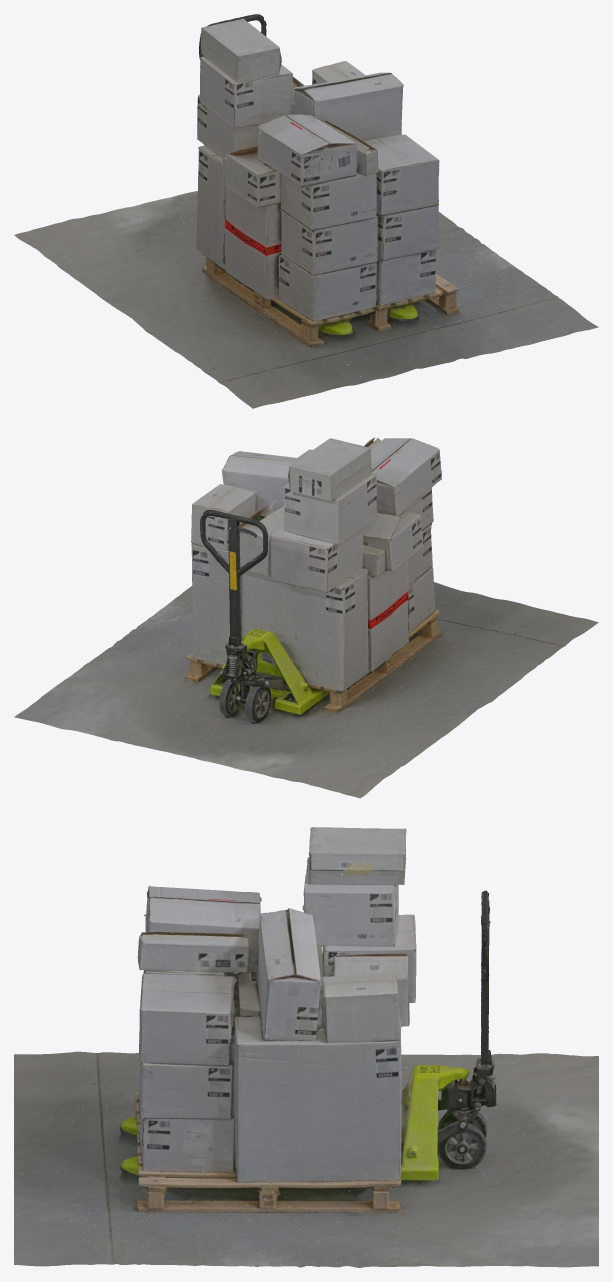
File: forklift.glb
The picture shows the model from 3 angles, top to bottom: view 1: azimuth 30°, elevation 25°; view 2: azimuth 150°, elevation 25°; view 3: azimuth 270°, elevation 25°; orthographic projection. The views are drawn at different scales.
Parts seen in each view (by area): view 1: Object_6, Object_4, Object_3, Object_5, Object_2, Object_7; view 2: Object_4, Object_7, Object_3, Object_2, Object_5, Object_6, Object_8; view 3: Object_4, Object_5, Object_6, Object_3, Object_7, Object_2, Object_8.
Boxes of the visible parts, x1=… form: Object_6: x1=186, y1=43, x2=561, y2=399; Object_4: x1=14, y1=14, x2=598, y2=408; Object_3: x1=116, y1=14, x2=552, y2=392; Object_5: x1=142, y1=30, x2=525, y2=344; Object_2: x1=129, y1=17, x2=439, y2=289; Object_7: x1=107, y1=21, x2=470, y2=316; Object_4: x1=14, y1=438, x2=598, y2=798; Object_7: x1=102, y1=439, x2=438, y2=735; Object_3: x1=135, y1=438, x2=560, y2=771; Object_2: x1=191, y1=438, x2=433, y2=743; Object_5: x1=137, y1=438, x2=497, y2=715; Object_6: x1=154, y1=437, x2=562, y2=703; Object_8: x1=82, y1=466, x2=418, y2=747; Object_4: x1=14, y1=891, x2=598, y2=1267; Object_5: x1=133, y1=827, x2=401, y2=1266; Object_6: x1=18, y1=843, x2=340, y2=1264; Object_3: x1=14, y1=828, x2=598, y2=1267; Object_7: x1=284, y1=827, x2=464, y2=1267; Object_2: x1=139, y1=827, x2=496, y2=1191; Object_8: x1=398, y1=829, x2=481, y2=1262.
Bounding box in the file's own units: 15.56 × 10.53 × 18.6.
Materials: 1 (1 with a texture image).
